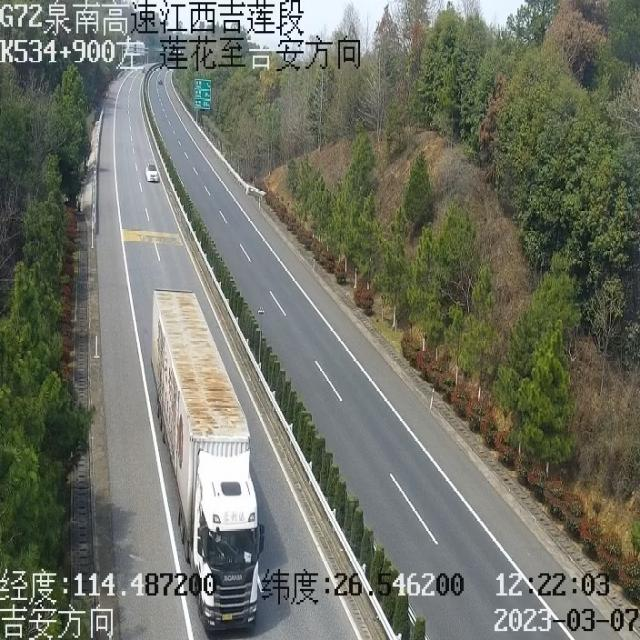point: (123, 41, 188, 99)
